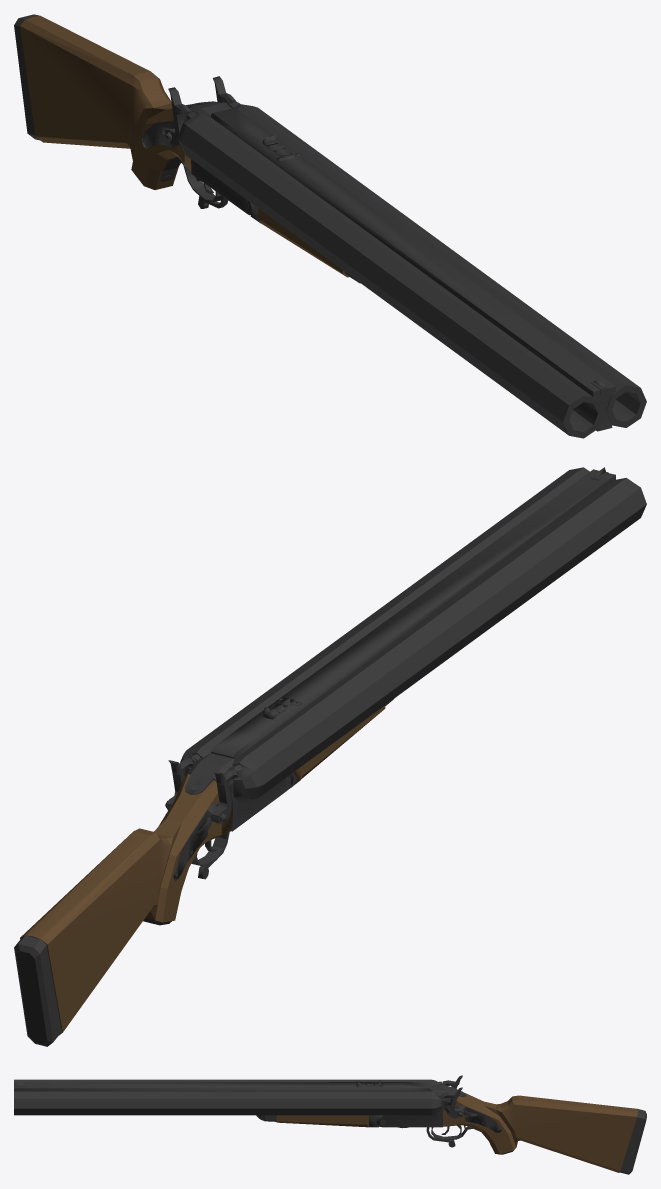
Rendered from double-barreled.fbx.
The picture shows the model from 3 angles, top to bottom: view 1: azimuth 30°, elevation 25°; view 2: azimuth 150°, elevation 25°; view 3: azimuth 270°, elevation 25°; orthographic projection. The views are drawn at different scales.
Visible parts, largest first — view 1: Cube.005; view 2: Cube.005; view 3: Cube.005.
Part boxes in pixels (box(x1,y1,x2,y2)): Cube.005: box(14, 14, 646, 438); Cube.005: box(14, 467, 646, 1046); Cube.005: box(14, 1075, 646, 1174).
Size of the model in its own units: 16.46 by 31.74 by 197.
Materials: 1 (1 with a texture image).
